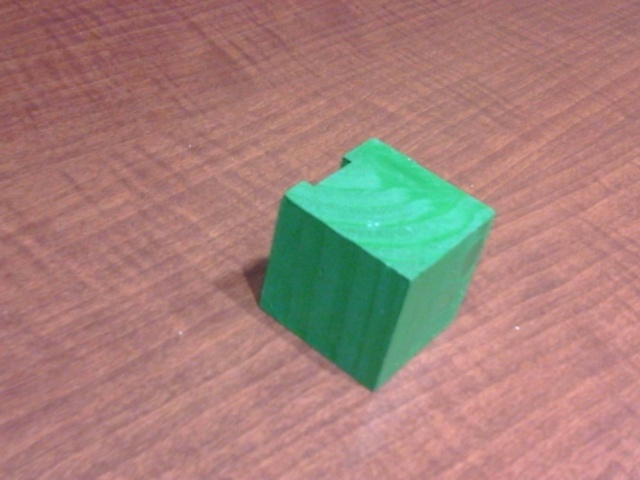GreenBlock: (258, 136, 497, 393)
